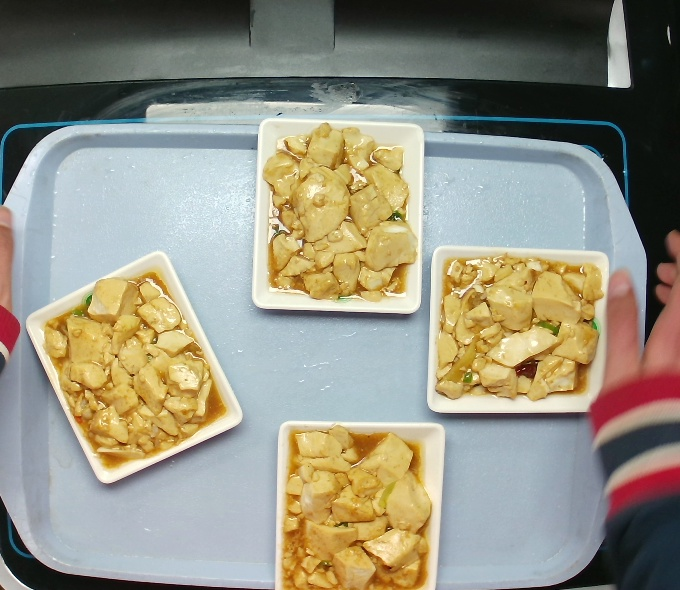wcq-DouFu: (47, 267, 217, 470), (252, 123, 422, 313), (431, 253, 607, 408), (284, 417, 426, 589)
